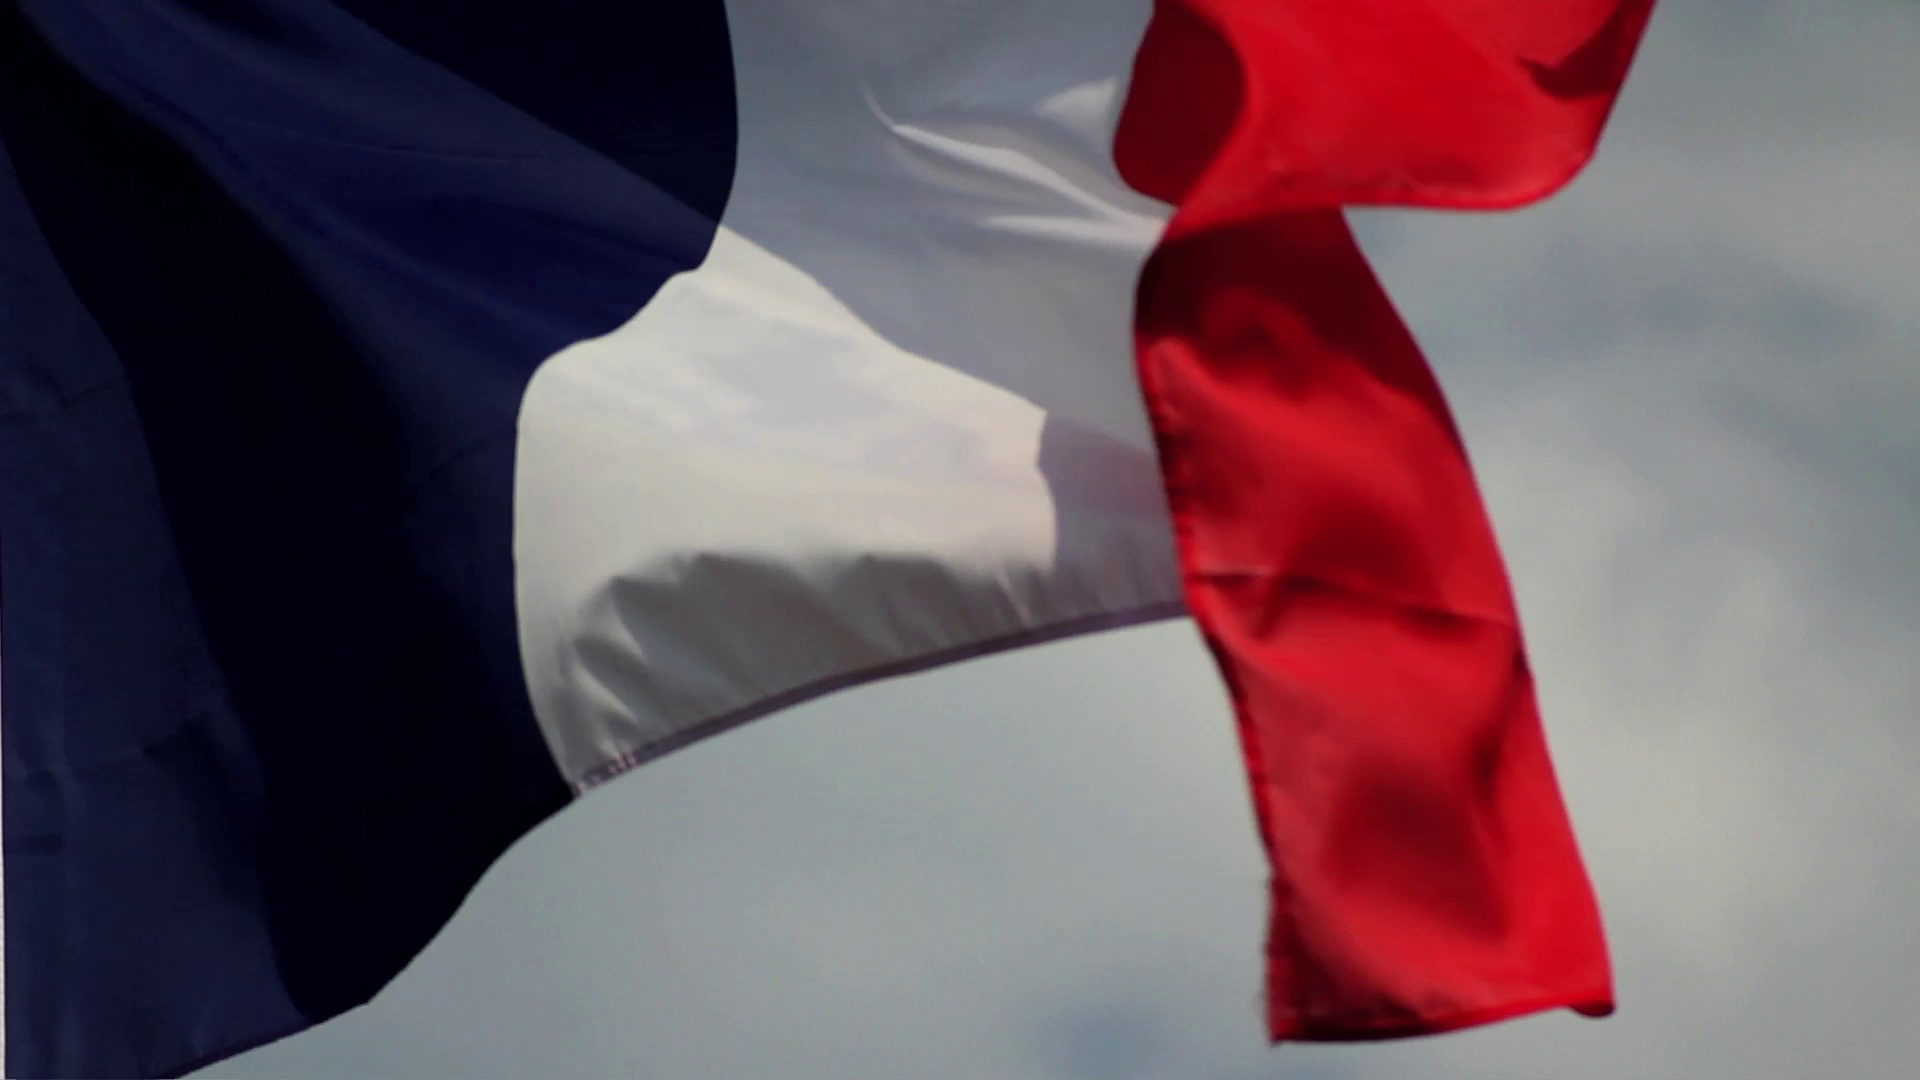French Flag: (1, 1, 1660, 1080)
